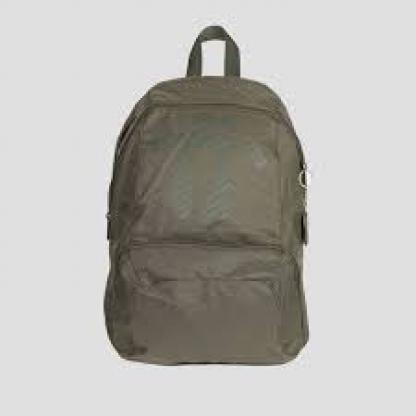morral: (89, 11, 336, 374)
